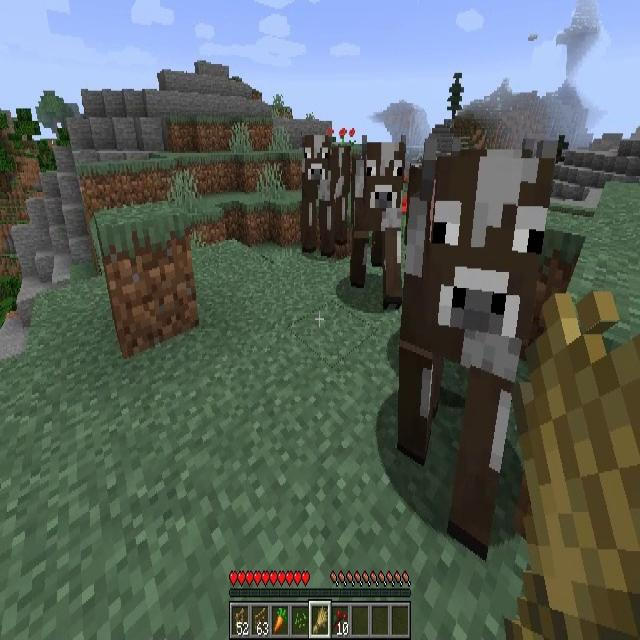cow: (397, 136, 567, 556), (351, 135, 407, 307), (302, 136, 351, 258)
